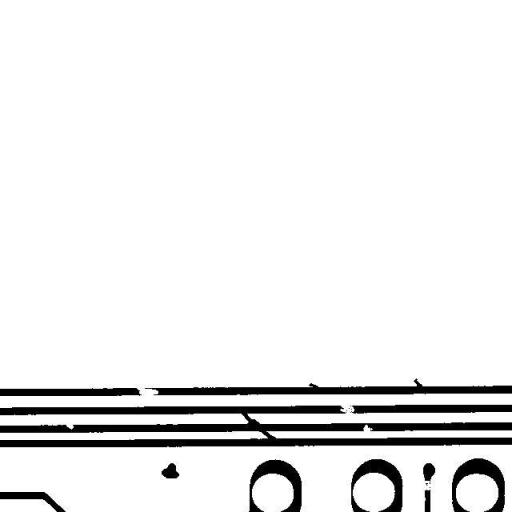copper: (154, 455, 186, 486)
mousebite: (355, 417, 380, 441), (58, 416, 81, 437)
open: (128, 377, 166, 403), (332, 397, 362, 422), (414, 472, 440, 498)
short: (230, 401, 269, 437), (250, 418, 284, 450)
spur: (406, 370, 430, 396), (301, 375, 324, 395)
